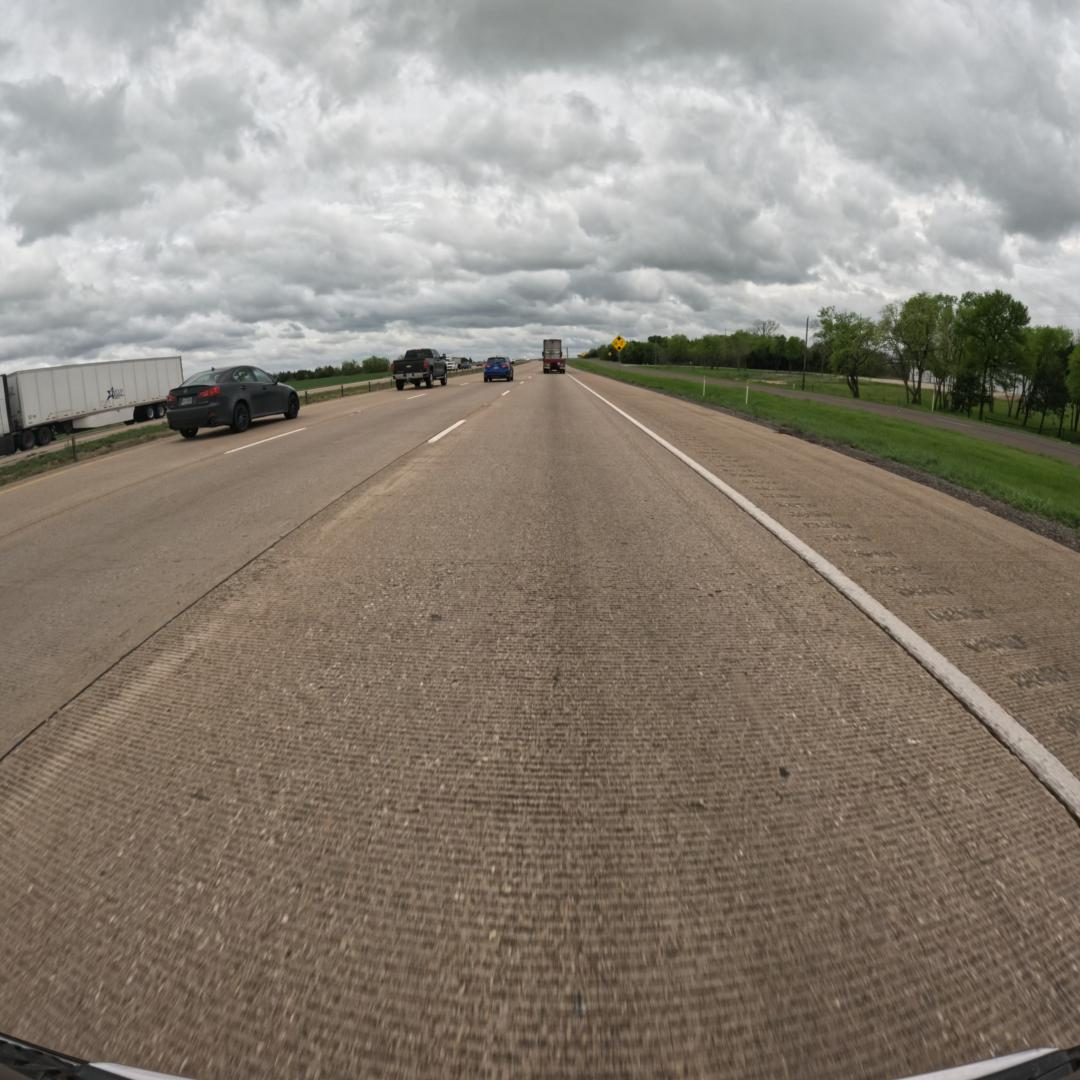lane0: (0, 376, 1080, 1077)
lane1: (0, 382, 523, 758)
